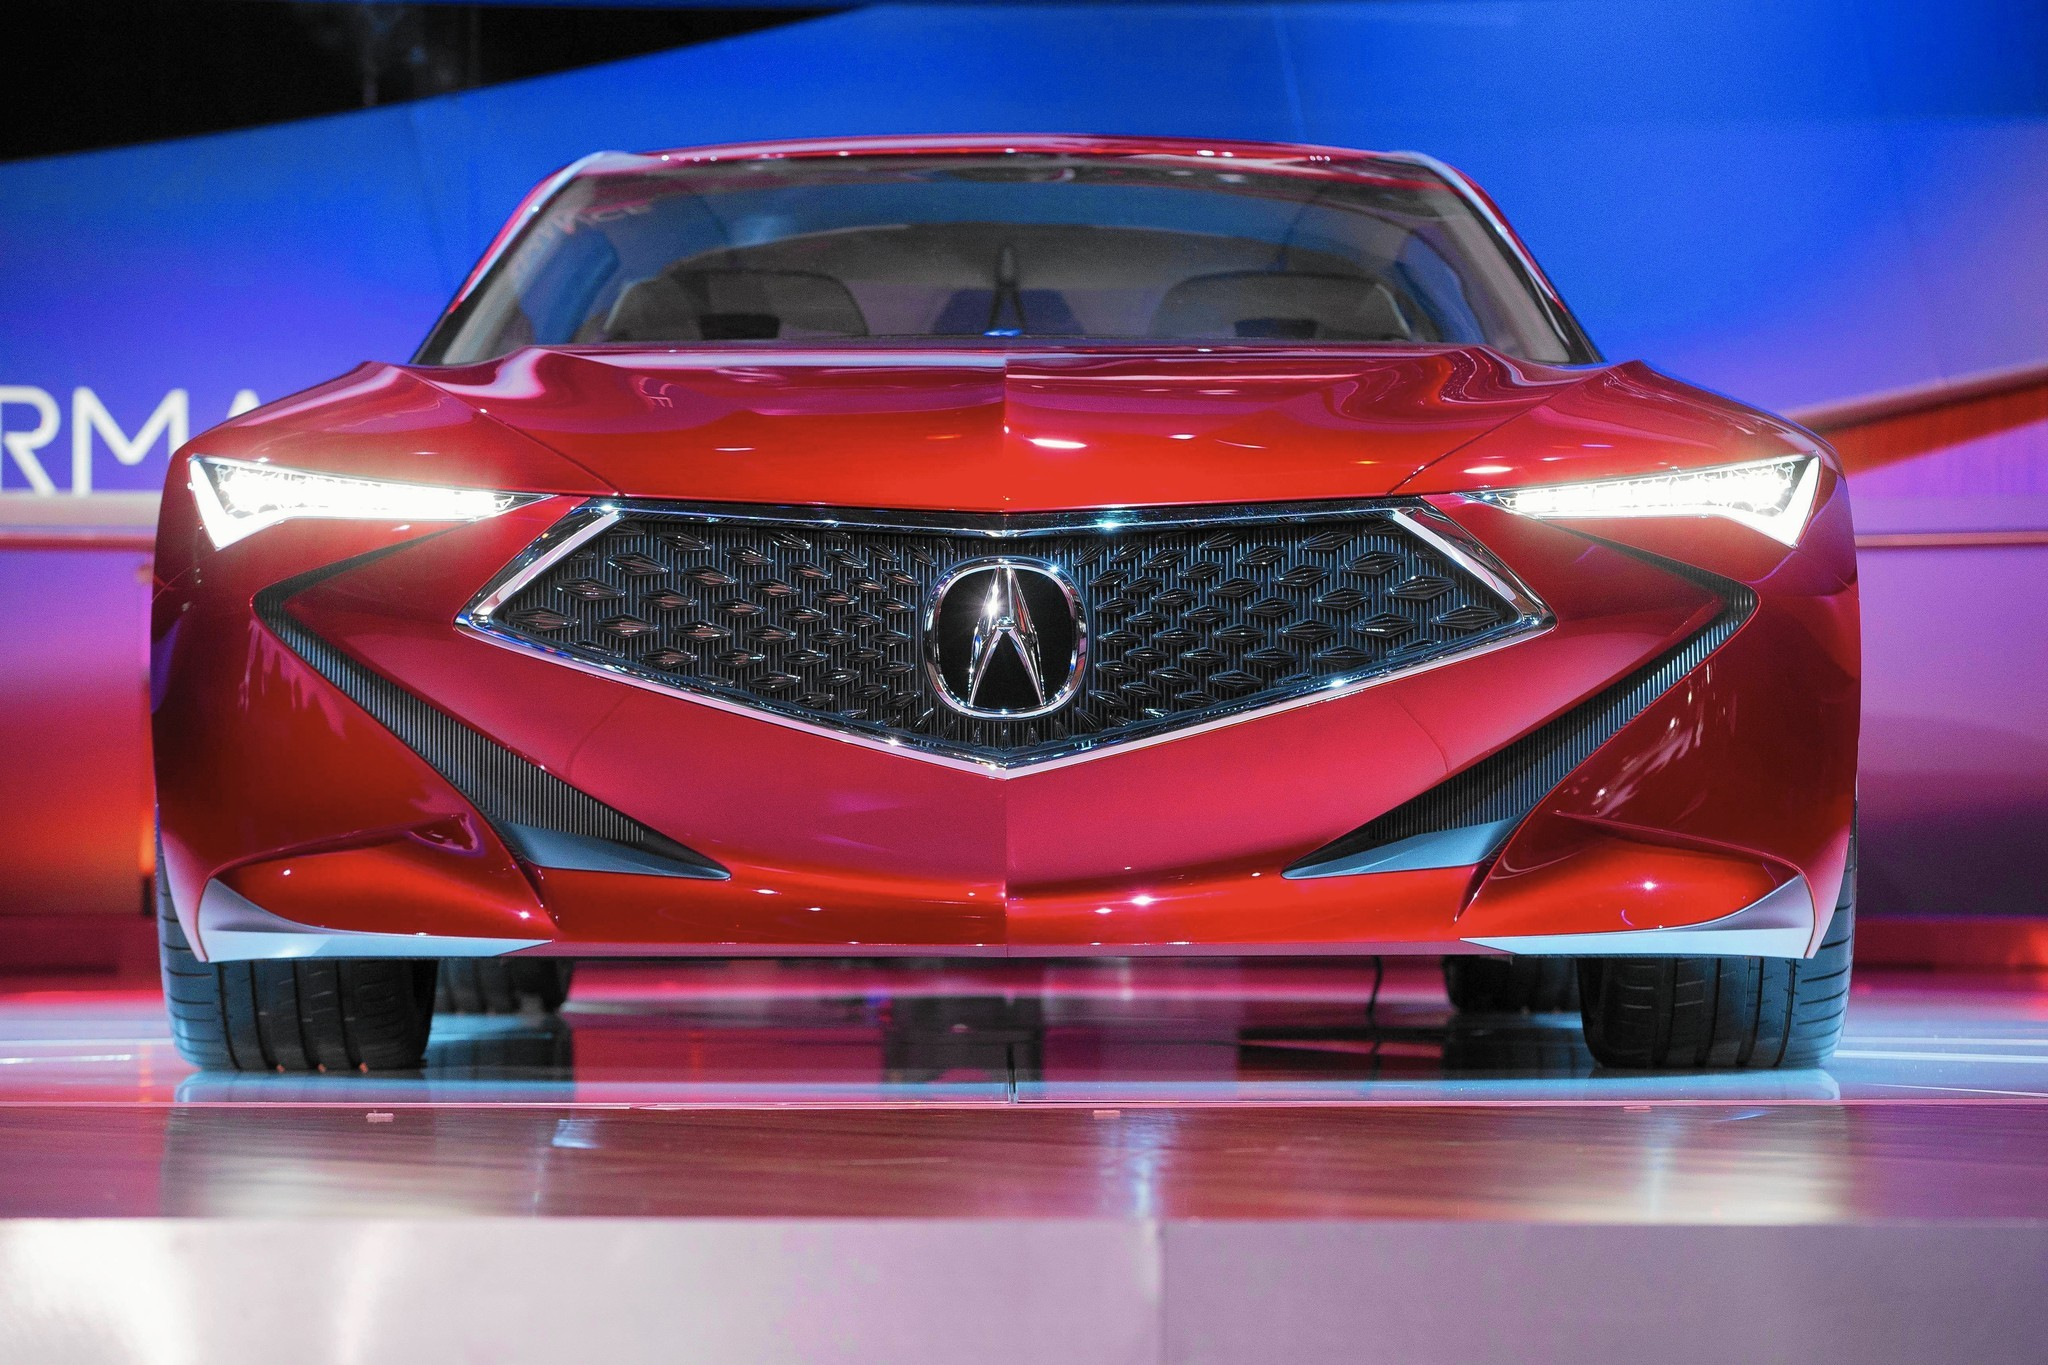headlight: (158, 443, 547, 561), (1475, 439, 1841, 559)
wheel: (1599, 812, 1887, 1057), (148, 868, 439, 1089), (422, 929, 588, 1019), (1440, 954, 1590, 1019)
